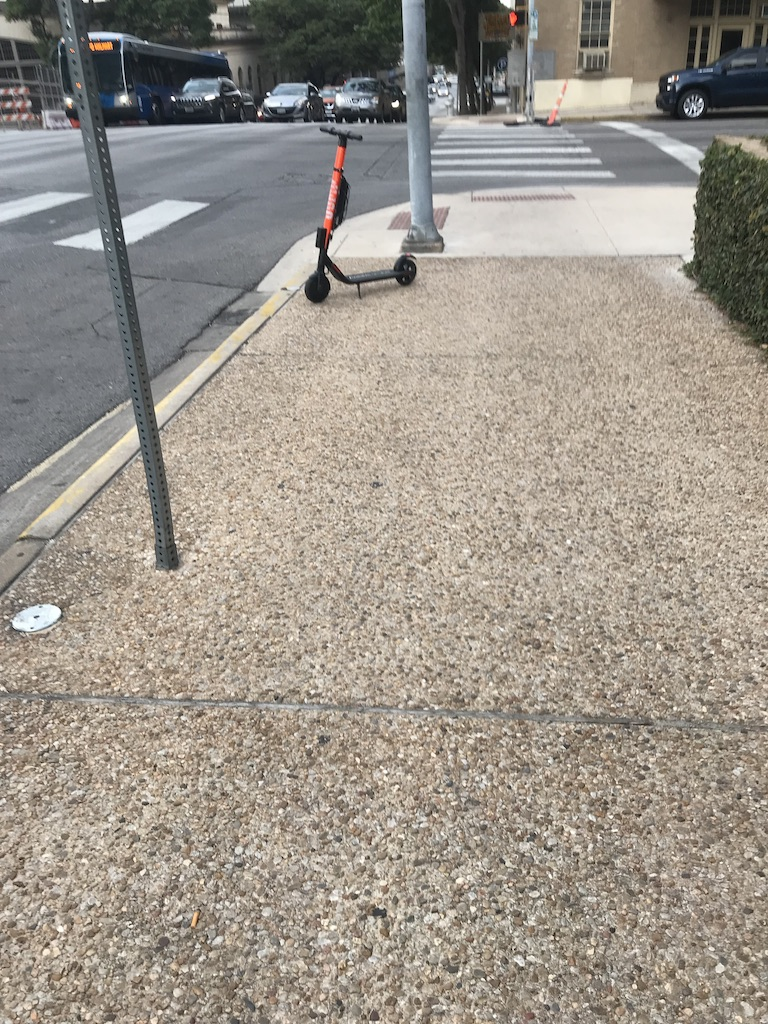scooter: (306, 125, 418, 304)
